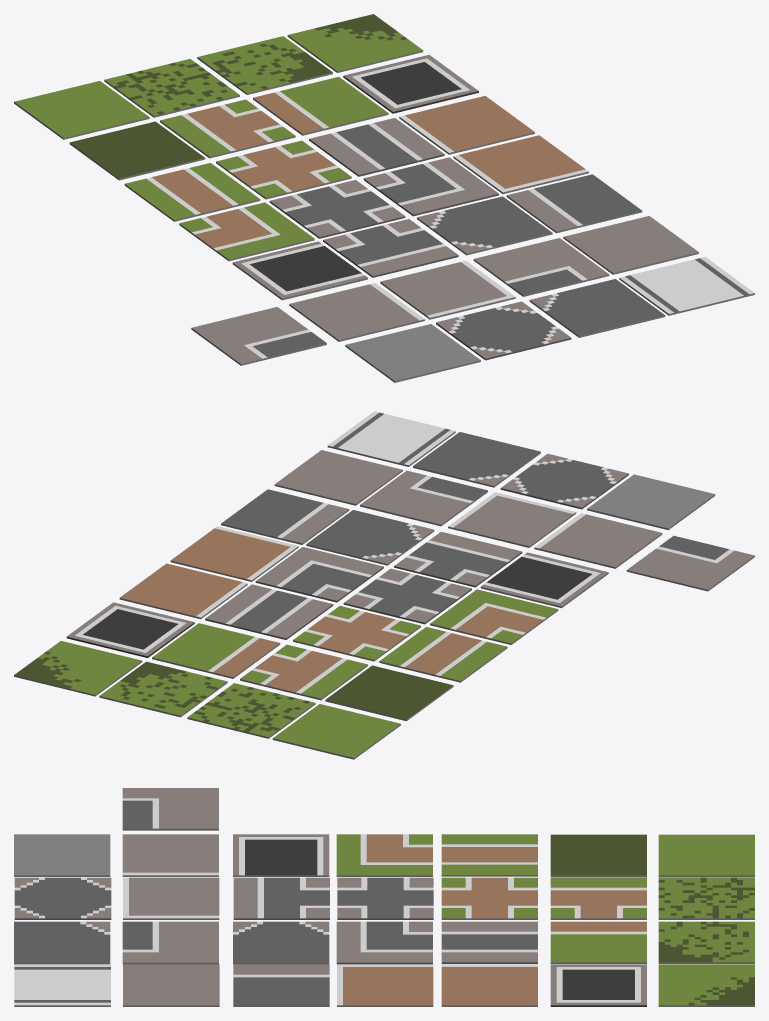
The model's file is Baseground_stage3.fbx.
3 views of the same model, one above another, from view 1: azimuth 30°, elevation 25°; view 2: azimuth 150°, elevation 25°; view 3: azimuth 270°, elevation 25° (orthographic). The views are drawn at different scales.
Parts seen in each view (by area): view 1: Stage3_Floor_005, Stage3_Floor_006, Stage3_Floor_029, Stage3_Floor_003, Stage3_Floor_025, Stage3_Floor_009, Stage3_Floor_014, Stage3_Floor_007, Stage3_Floor_024, Stage3_Floor_012, Stage3_Floor_015, Stage3_Floor_017 (+17 smaller); view 2: Stage3_Floor_030, Stage3_Floor_029, Stage3_Floor_002, Stage3_Floor_008, Stage3_Floor_014, Stage3_Floor_015, Stage3_Floor_022, Stage3_Floor_018, Stage3_Floor_011, Stage3_Floor_026, Stage3_Floor_016, Stage3_Floor_035 (+17 smaller); view 3: Stage3_Floor_030, Stage3_Floor_003, Stage3_Floor_017, Stage3_Floor_021, Stage3_Floor_007, Stage3_Floor_006, Stage3_Floor_002, Stage3_Floor_025, Stage3_Floor_009, Stage3_Floor_024, Stage3_Floor_012, Stage3_Floor_014 (+17 smaller).
Boxes of the visible parts, x1,y1,x2,y2 form: Stage3_Floor_005: (216, 140, 351, 199); Stage3_Floor_006: (529, 279, 665, 337); Stage3_Floor_029: (104, 59, 239, 117); Stage3_Floor_003: (69, 121, 205, 180); Stage3_Floor_025: (287, 14, 423, 72); Stage3_Floor_009: (343, 55, 478, 113); Stage3_Floor_014: (179, 202, 314, 261); Stage3_Floor_007: (473, 238, 609, 296); Stage3_Floor_024: (399, 96, 534, 154); Stage3_Floor_012: (124, 163, 260, 221); Stage3_Floor_015: (269, 180, 405, 238); Stage3_Floor_017: (363, 157, 498, 216); Stage3_Floor_030: (272, 704, 400, 759); Stage3_Floor_029: (187, 683, 315, 738); Stage3_Floor_002: (500, 453, 628, 509); Stage3_Floor_008: (152, 623, 280, 678); Stage3_Floor_014: (430, 589, 558, 644); Stage3_Floor_015: (343, 568, 471, 624); Stage3_Floor_022: (221, 489, 349, 544); Stage3_Floor_018: (534, 513, 662, 568); Stage3_Floor_011: (448, 492, 576, 547); Stage3_Floor_026: (274, 450, 402, 505); Stage3_Floor_016: (587, 474, 715, 530); Stage3_Floor_035: (626, 535, 754, 591); Stage3_Floor_030: (658, 834, 754, 877); Stage3_Floor_003: (550, 834, 646, 877); Stage3_Floor_017: (336, 921, 432, 964); Stage3_Floor_021: (233, 921, 329, 964); Stage3_Floor_007: (122, 921, 218, 964); Stage3_Floor_006: (14, 921, 110, 964); Stage3_Floor_002: (14, 877, 111, 919); Stage3_Floor_025: (658, 964, 754, 1006); Stage3_Floor_009: (550, 964, 646, 1006); Stage3_Floor_024: (441, 964, 537, 1006); Stage3_Floor_012: (441, 834, 537, 876); Stage3_Floor_014: (336, 834, 432, 876).
Bounding box in the file's own units: 266 × 1 × 384.
Materials: 1 (1 with a texture image).
